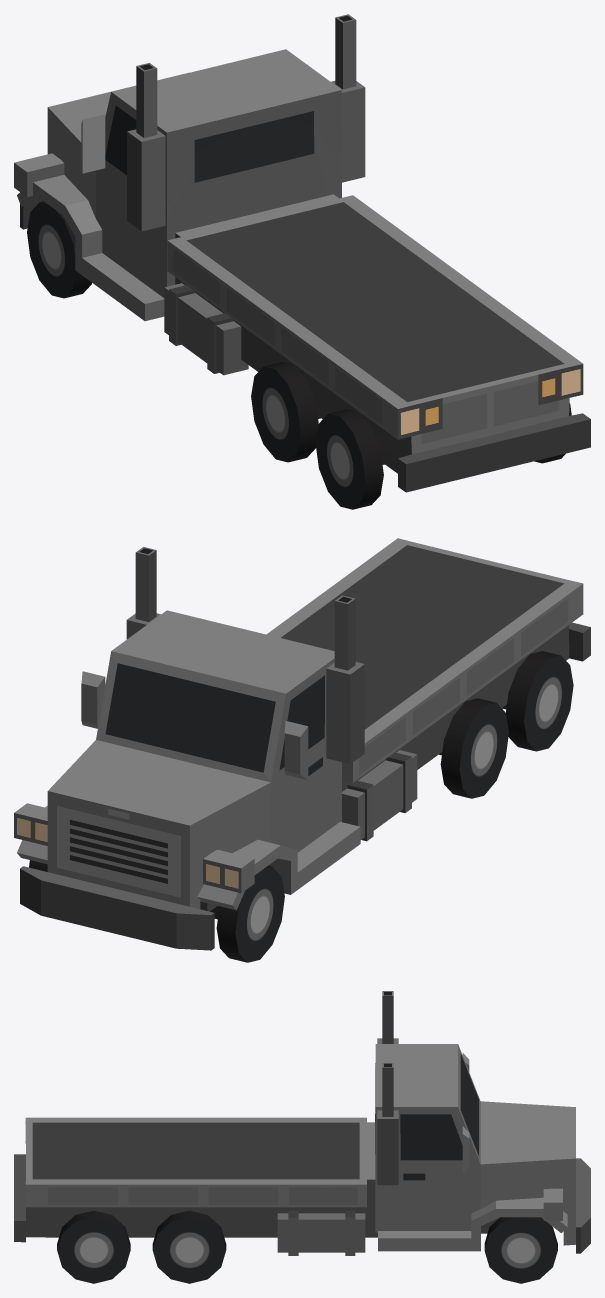
File: largeTruckWhite.glb
The picture shows the model from 3 angles, top to bottom: view 1: azimuth 30°, elevation 25°; view 2: azimuth 150°, elevation 25°; view 3: azimuth 270°, elevation 25°; orthographic projection. The views are drawn at different scales.
Parts seen in each view (by area): view 1: large_truck_02_white_prefab, large_truck_02_rl02_wheel, large_truck_02_rl_wheel, large_truck_02_fl_wheel; view 2: large_truck_02_white_prefab, large_truck_02_rl_wheel, large_truck_02_rl02_wheel, large_truck_02_fl_wheel; view 3: large_truck_02_white_prefab, large_truck_02_rr_wheel, large_truck_02_rr02_wheel, large_truck_02_fr_wheel.
Part boxes in pixels (box(x1,y1,x2,y2)): large_truck_02_white_prefab: box(14, 14, 590, 492); large_truck_02_rl02_wheel: box(315, 409, 383, 509); large_truck_02_rl_wheel: box(251, 362, 318, 462); large_truck_02_fl_wheel: box(27, 201, 91, 298); large_truck_02_white_prefab: box(14, 538, 590, 950); large_truck_02_rl_wheel: box(440, 698, 508, 798); large_truck_02_rl02_wheel: box(506, 651, 573, 751); large_truck_02_fl_wheel: box(216, 865, 284, 962); large_truck_02_white_prefab: box(14, 991, 590, 1255); large_truck_02_rr_wheel: box(152, 1210, 226, 1283); large_truck_02_rr02_wheel: box(57, 1210, 130, 1283); large_truck_02_fr_wheel: box(484, 1217, 557, 1283).
Size of the model in its own units: 3.67 by 4.52 by 10.89.
1 material, 1 textured.
